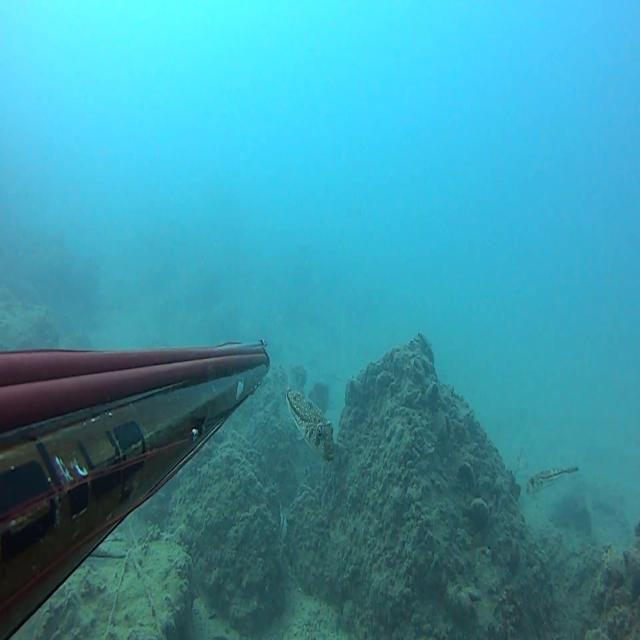Balon Baligi: (282, 378, 334, 461), (526, 466, 578, 495)
